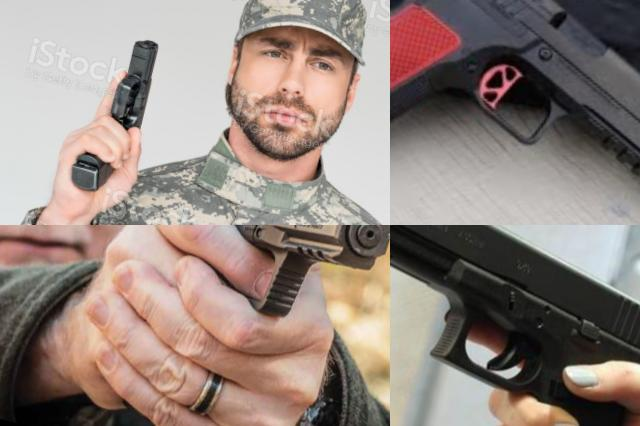handgun: (390, 0, 640, 225), (390, 225, 640, 426), (147, 225, 390, 350), (64, 27, 166, 204)
